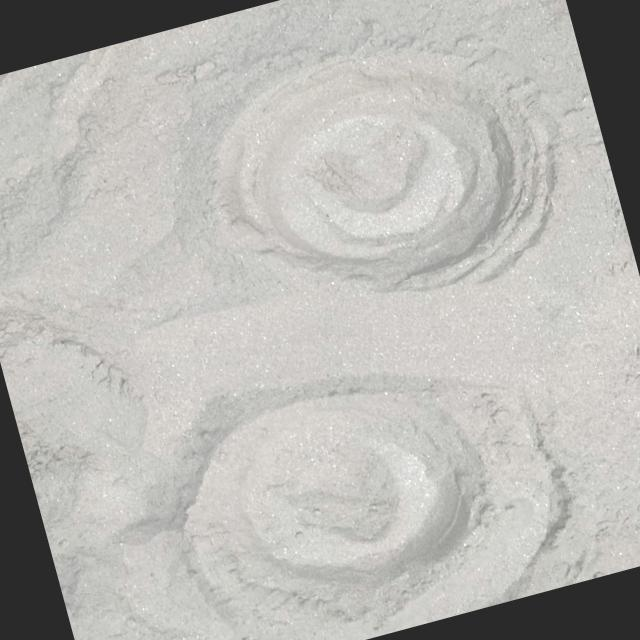C20: (219, 56, 547, 280), (192, 390, 475, 589)
